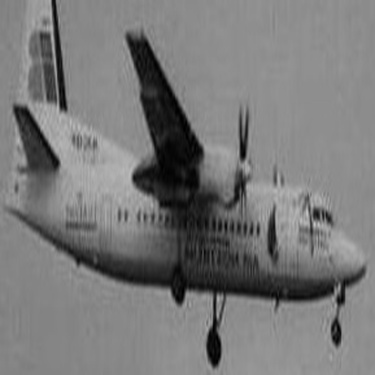airplane: (7, 5, 368, 370)
